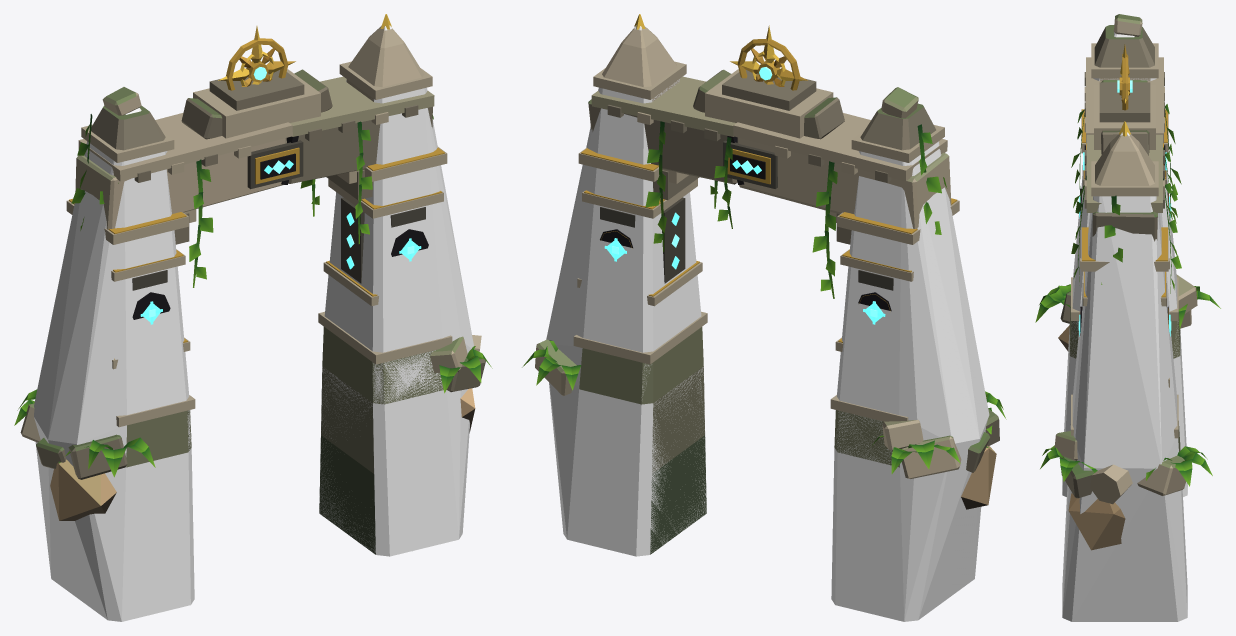
File: ancient_ruined_obelisk_gate.glb
The picture shows the model from 3 angles, left to right: view 1: azimuth 30°, elevation 25°; view 2: azimuth 150°, elevation 25°; view 3: azimuth 270°, elevation 25°; orthographic projection. The views are drawn at different scales.
Parts seen in each view (by area): view 1: AncientRuinedObeliskGate, col_gate_left, col_gate_right; view 2: AncientRuinedObeliskGate, col_gate_left, col_gate_right; view 3: col_gate_right, AncientRuinedObeliskGate, col_gate_left.
Boxes of the visible parts, left/top/right/bottom form: AncientRuinedObeliskGate: left=14, top=14, right=492, bottom=554; col_gate_left: left=34, top=108, right=194, bottom=621; col_gate_right: left=319, top=25, right=474, bottom=556; AncientRuinedObeliskGate: left=522, top=14, right=1006, bottom=554; col_gate_left: left=831, top=141, right=989, bottom=621; col_gate_right: left=546, top=25, right=706, bottom=556; col_gate_right: left=1062, top=132, right=1187, bottom=621; AncientRuinedObeliskGate: left=1035, top=14, right=1220, bottom=550; col_gate_left: left=1062, top=32, right=1187, bottom=497.
Bounding box in the file's own units: 11.77 × 13.68 × 4.64.
